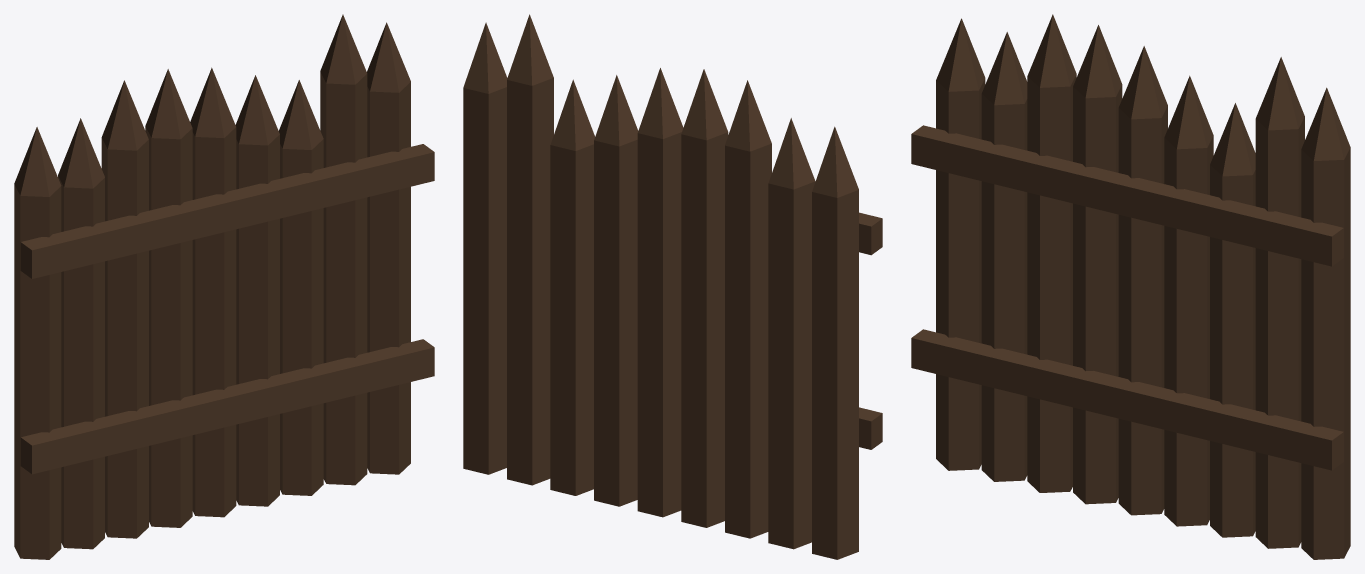
Rendered from palisade_intact.glb.
The picture shows the model from 3 angles, left to right: view 1: azimuth 30°, elevation 25°; view 2: azimuth 150°, elevation 25°; view 3: azimuth 330°, elevation 25°; orthographic projection. The views are drawn at different scales.
Parts seen in each view (by area): view 1: Section; view 2: Section; view 3: Section.
Part boxes in pixels (x1=…): Section: x1=14, y1=14, x2=434, y2=559; Section: x1=463, y1=14, x2=882, y2=559; Section: x1=911, y1=14, x2=1350, y2=559.
Bounding box in the file's own units: 2.05 × 2.25 × 0.279.
